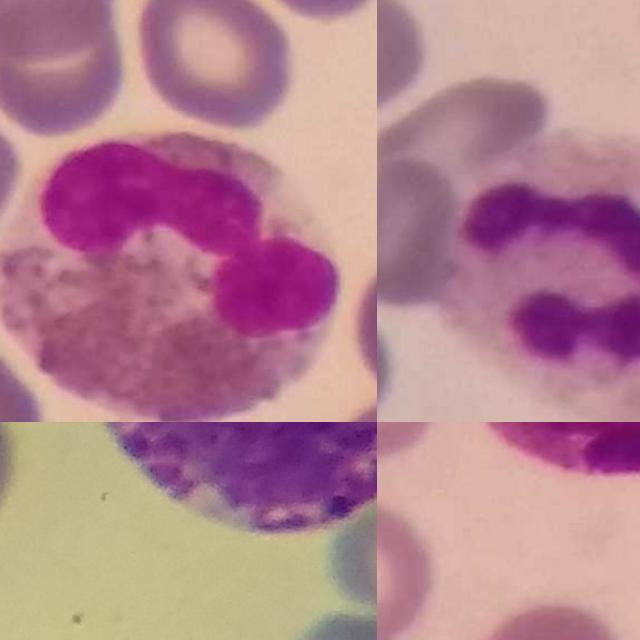Basophil: (89, 422, 377, 534)
Eosinophil: (0, 129, 351, 422)
Neutrophil: (448, 132, 640, 422)
